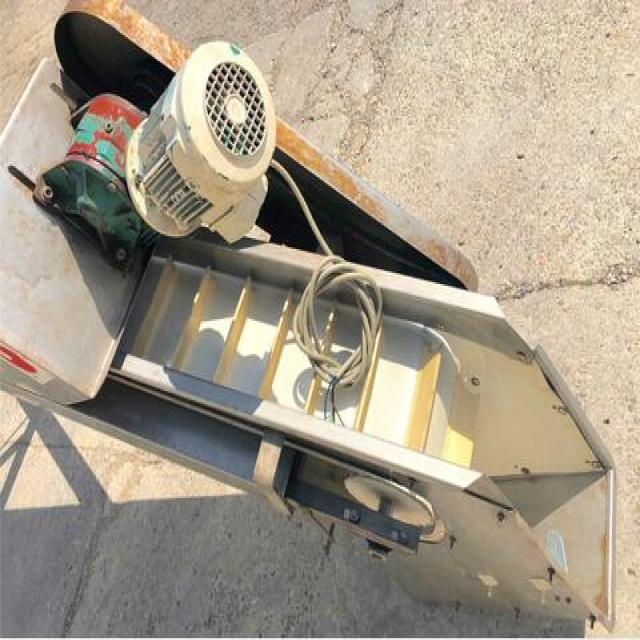Convoyeur: (18, 118, 620, 628)
